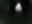person: (16, 4, 23, 15)
